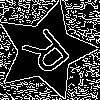R: (20, 26, 80, 85)
